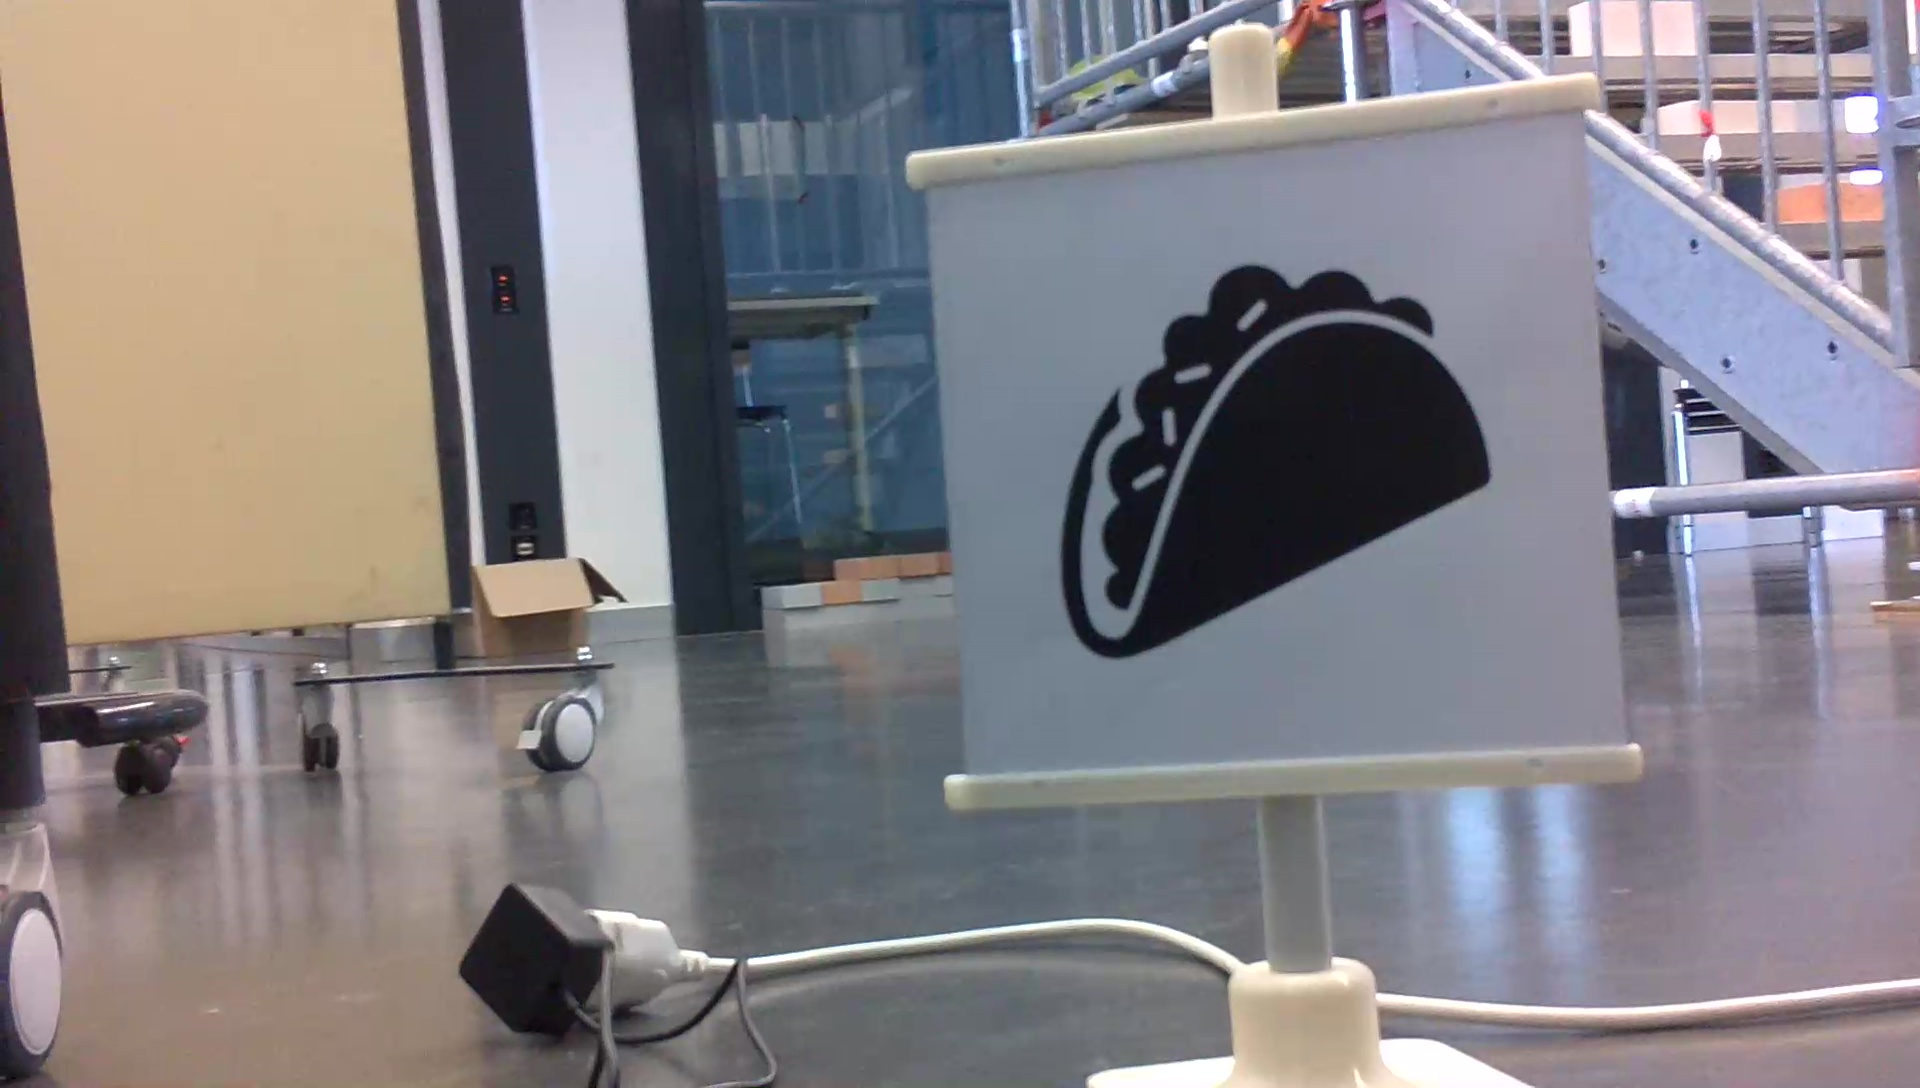taco: (1048, 255, 1505, 663)
